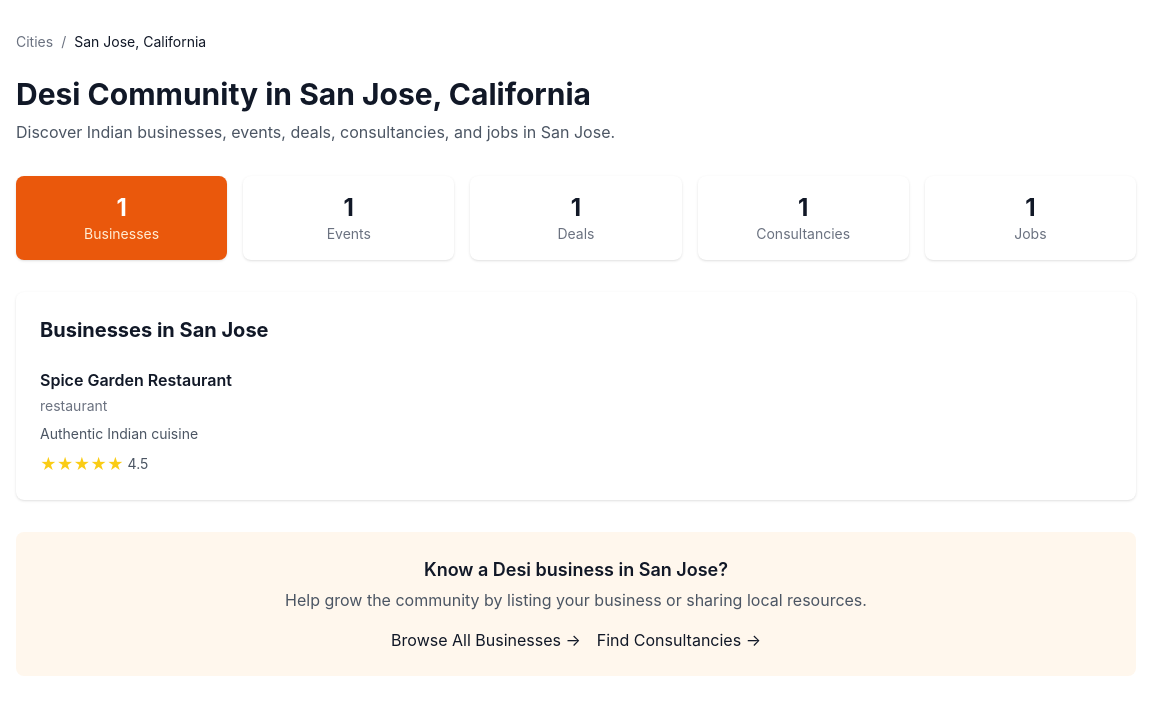
City Detail Page › Events Tab › should display events when Events tab is clicked
Expected: the heading "Spice Garden Restaurant" is shown, [40,370,232,390]
Click the button "1 Events": coordinates (349, 218) [243,176,454,260]
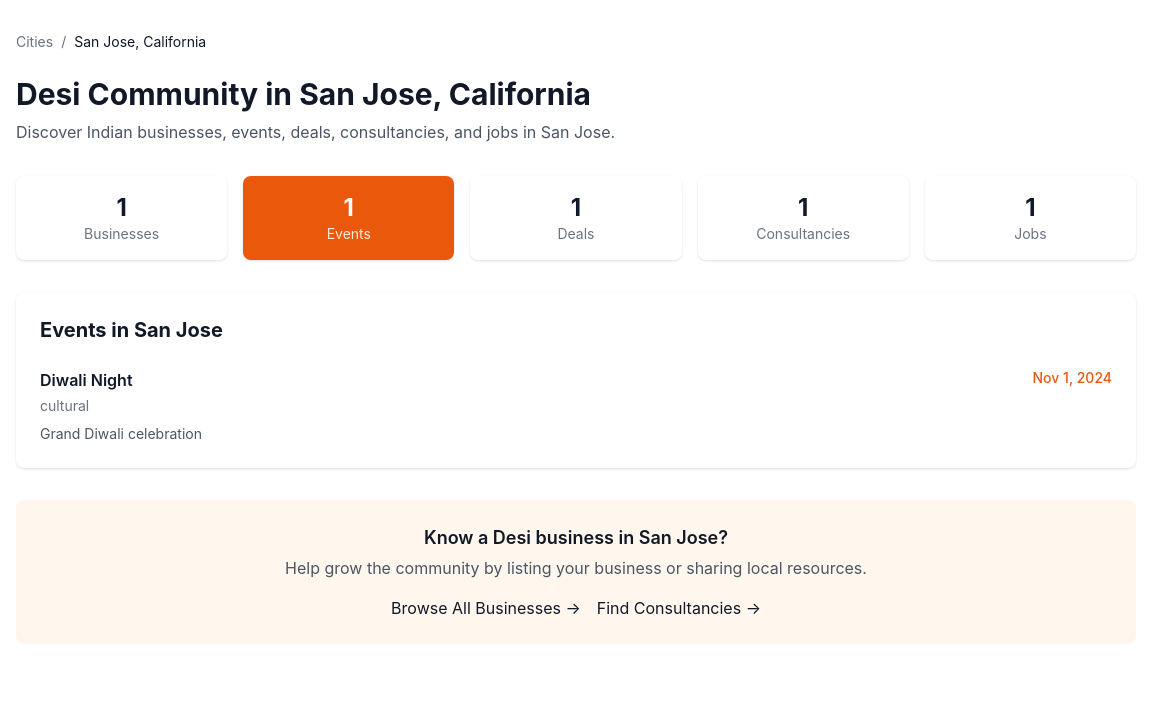
Now the heading "Diwali Night" is shown, box [40,368,132,392]
